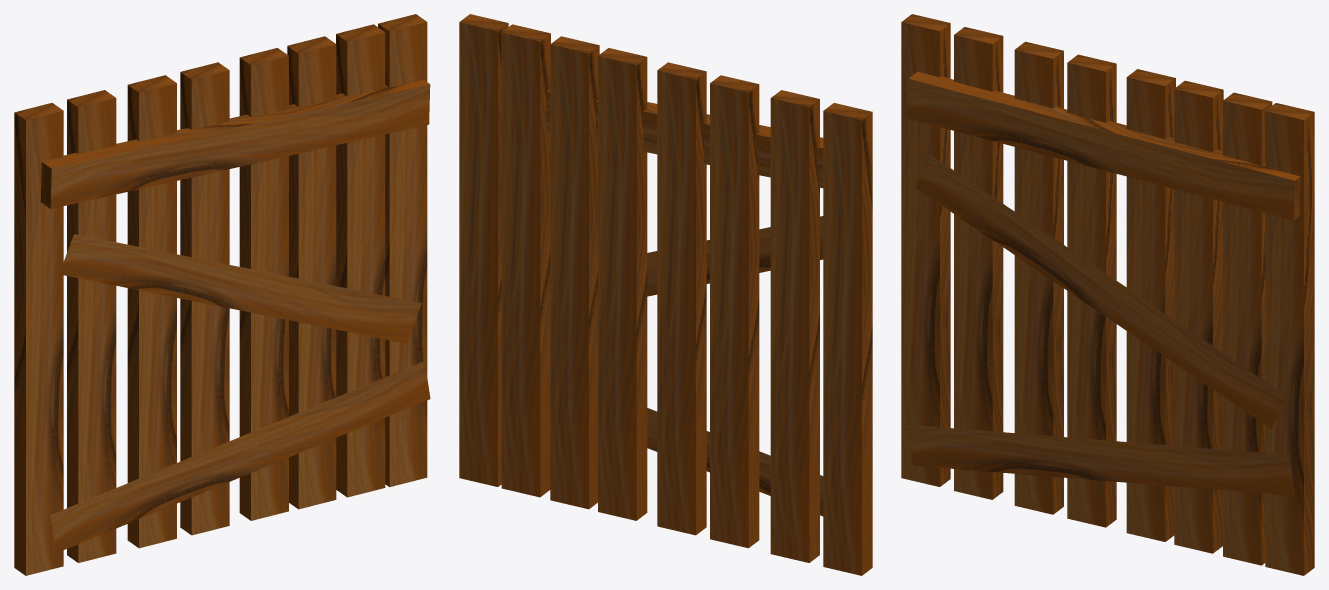
Rendered from PlanksDoor2.glb.
The picture shows the model from 3 angles, left to right: view 1: azimuth 30°, elevation 25°; view 2: azimuth 150°, elevation 25°; view 3: azimuth 330°, elevation 25°; orthographic projection.
Parts seen in each view (by area): view 1: PlanksDoor2; view 2: PlanksDoor2; view 3: PlanksDoor2.
Part boxes in pixels (<box>): PlanksDoor2: <box>14,14,430,575</box>; PlanksDoor2: <box>459,14,872,575</box>; PlanksDoor2: <box>901,14,1314,575</box>.
Bounding box in the file's own units: 6.31 × 6.83 × 0.5664.
Materials: 1 (1 with a texture image).
